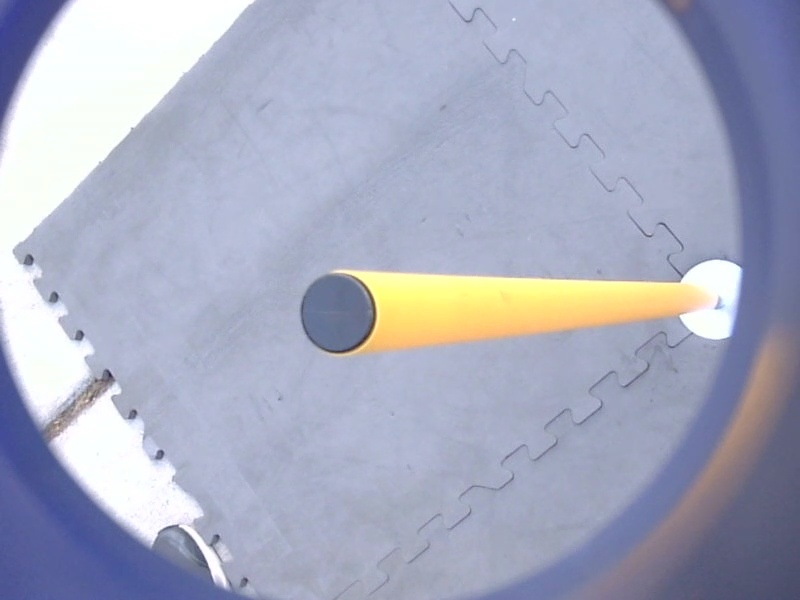tip: (291, 266, 384, 364)
